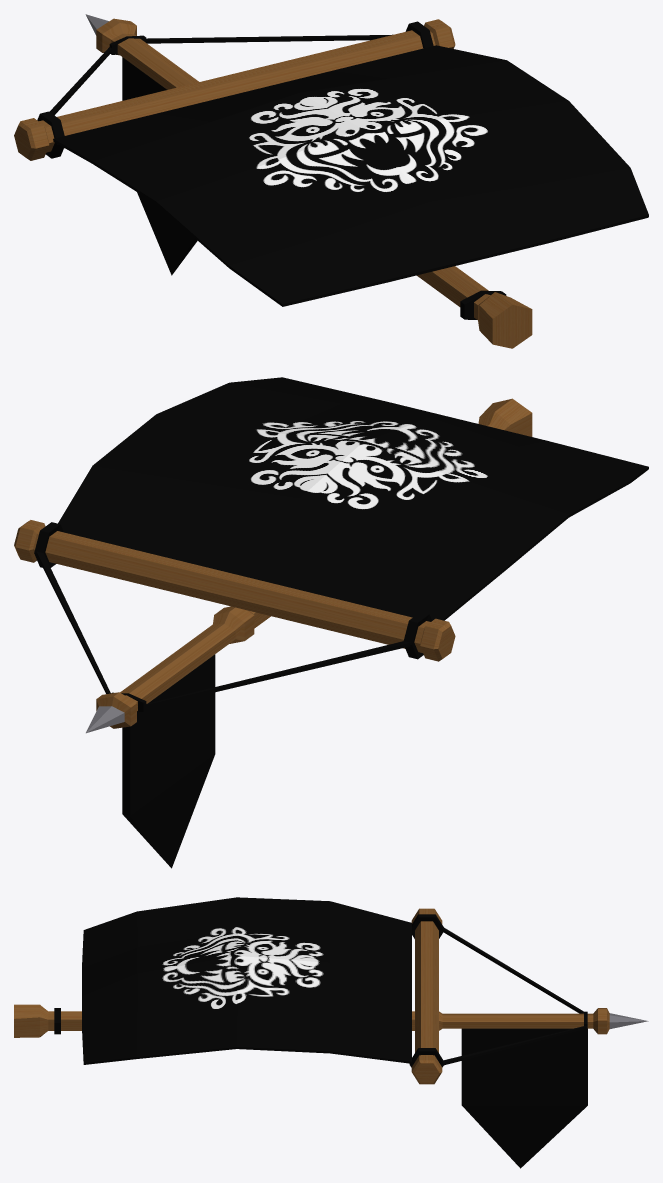
The model's file is sail_a_9.fbx.
3 renders of one model, top to bottom at view 1: azimuth 30°, elevation 25°; view 2: azimuth 150°, elevation 25°; view 3: azimuth 270°, elevation 25°, orthographic. The views are drawn at different scales.
Visible parts, largest first — view 1: Cube.059; view 2: Cube.059; view 3: Cube.059.
Part boxes in pixels (<box>): Cube.059: <box>14,14,648,348</box>; Cube.059: <box>14,377,648,868</box>; Cube.059: <box>14,897,648,1168</box>.
Bounding box in the file's own units: 107 × 68.94 × 187.
